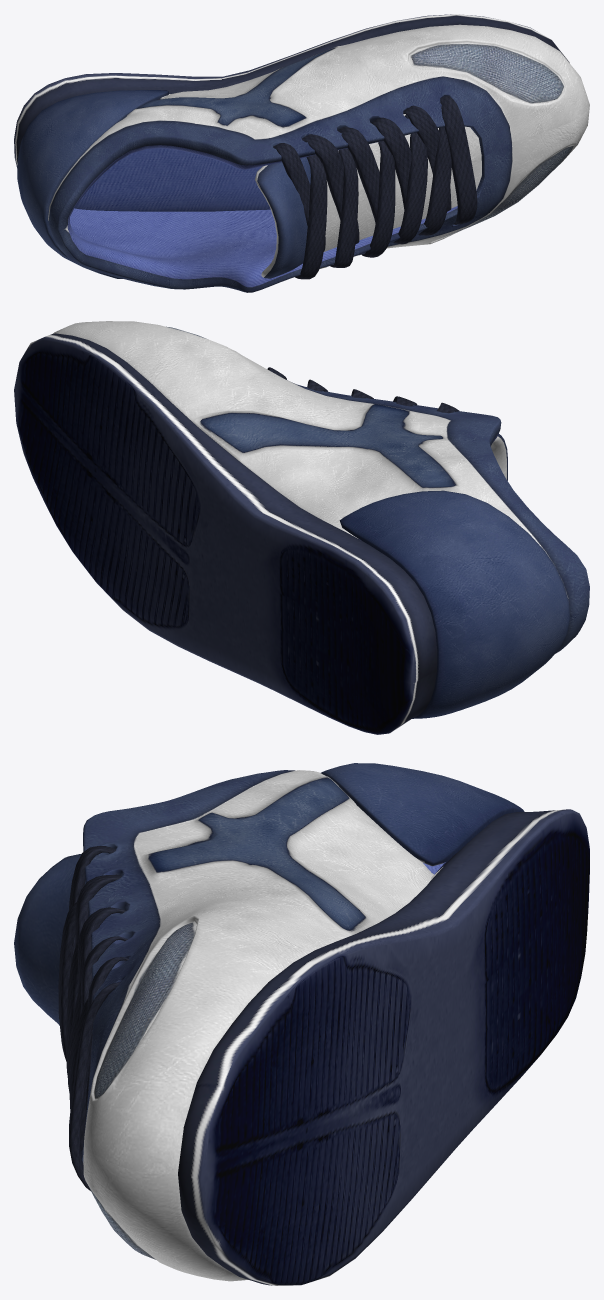
File: shoe.obj
The picture shows the model from 3 angles, top to bottom: view 1: azimuth 30°, elevation 25°; view 2: azimuth 150°, elevation 25°; view 3: azimuth 270°, elevation 25°; orthographic projection. The views are drawn at different scales.
Visible parts, largest first — view 1: shoe; view 2: shoe; view 3: shoe.
Boxes of the visible parts, x1,y1,x2,y2 form: shoe: (14,14,589,292); shoe: (14,321,589,734); shoe: (14,763,589,1285).
Bounding box in the file's own units: 296 × 118 × 180.
